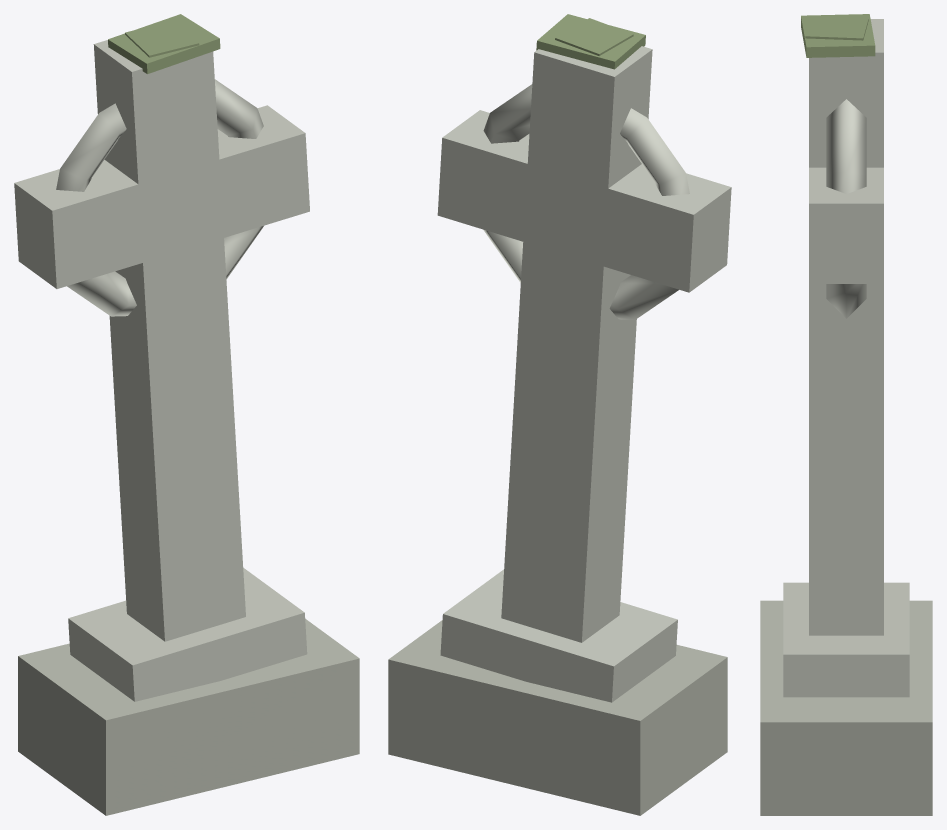
Rendered from gravestone_cross.glb.
3 renders of one model, left to right at view 1: azimuth 30°, elevation 25°; view 2: azimuth 150°, elevation 25°; view 3: azimuth 270°, elevation 25°, orthographic.
Parts seen in each view (by area): view 1: gravestone_cross; view 2: gravestone_cross; view 3: gravestone_cross.
Part boxes in pixels (x1,y1,x2,y2): gravestone_cross: (14, 14, 359, 815); gravestone_cross: (388, 14, 731, 815); gravestone_cross: (760, 14, 932, 815).
Bounding box in the file's own units: 0.5568 × 1.37 × 0.3.
